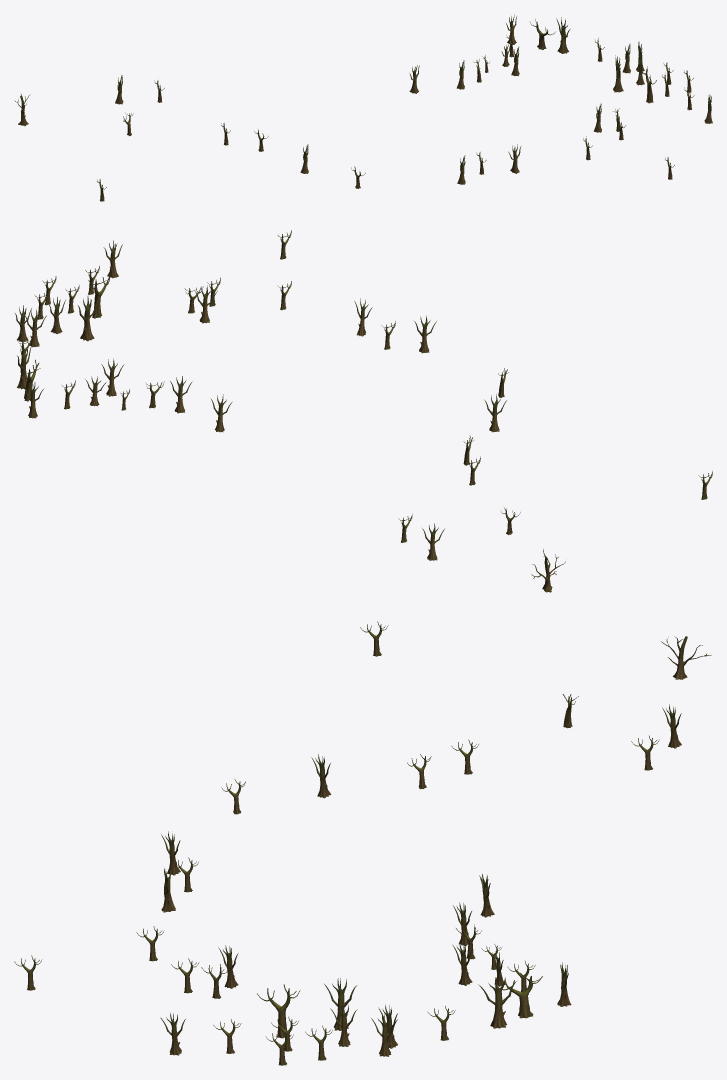
The model's file is shuganfenzu_02.fbx.
3 views of the same model, one above another, from view 1: azimuth 30°, elevation 25°; view 2: azimuth 150°, elevation 25°; view 3: azimuth 270°, elevation 25° (orthographic). The views are drawn at different scales.
Parts seen in each view (by area): view 1: shugan_02__21_; view 2: shugan_02__21_; view 3: shugan_02__21_.
Part boxes in pixels (bbox=[...]): shugan_02__21_: bbox=[14, 14, 712, 201]; shugan_02__21_: bbox=[15, 230, 712, 592]; shugan_02__21_: bbox=[14, 621, 711, 1065].
Size of the model in its own units: 21676 by 1265 by 15635.
